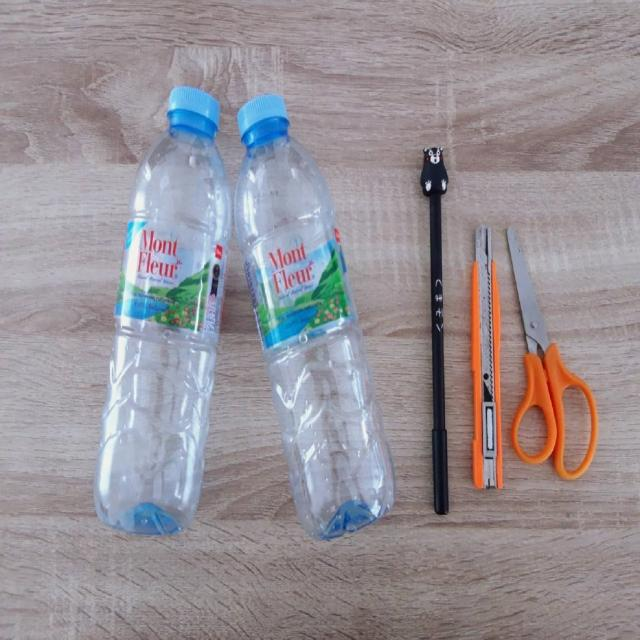bottle: (235, 86, 396, 540), (92, 85, 232, 540)
